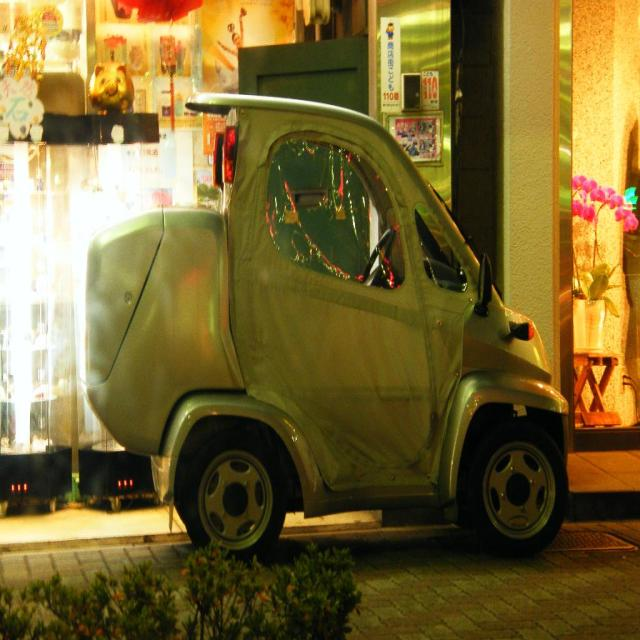car: (82, 87, 570, 556)
